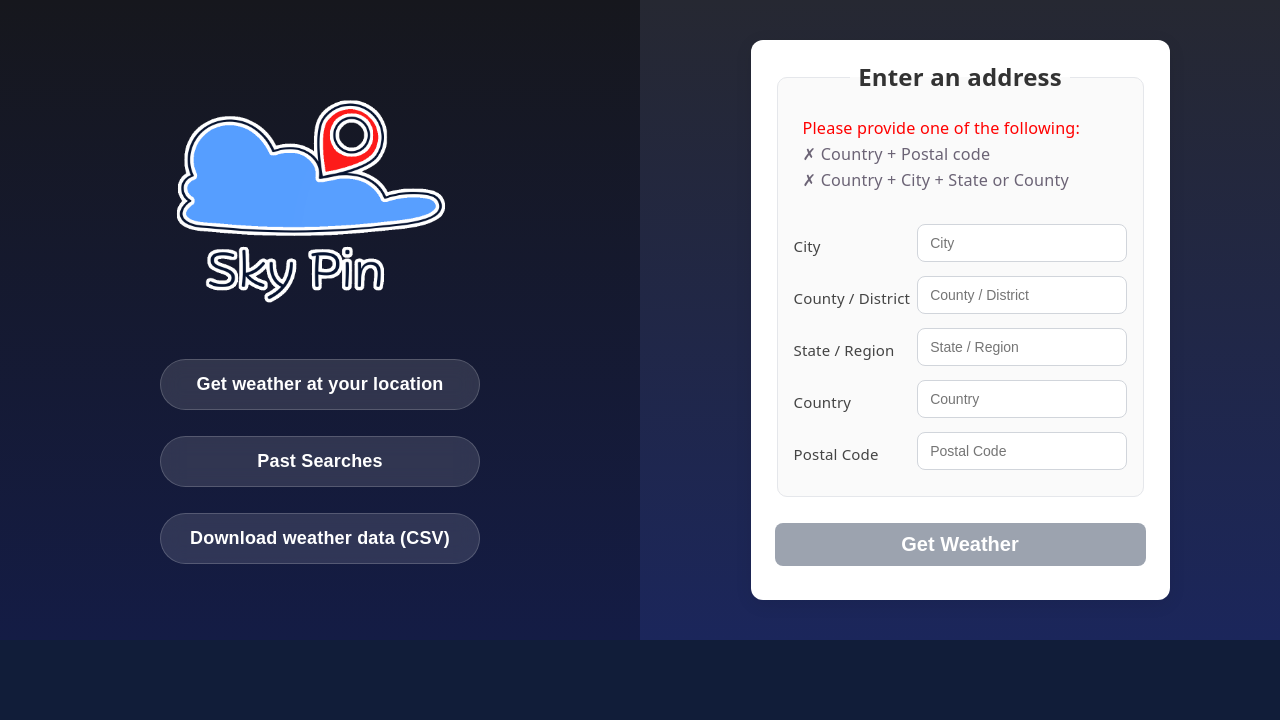
Test: App › loads and displays past searches when the history button is clicked
Click the button "Past Searches" at {"x": 320, "y": 462}, box [160,436,480,487]
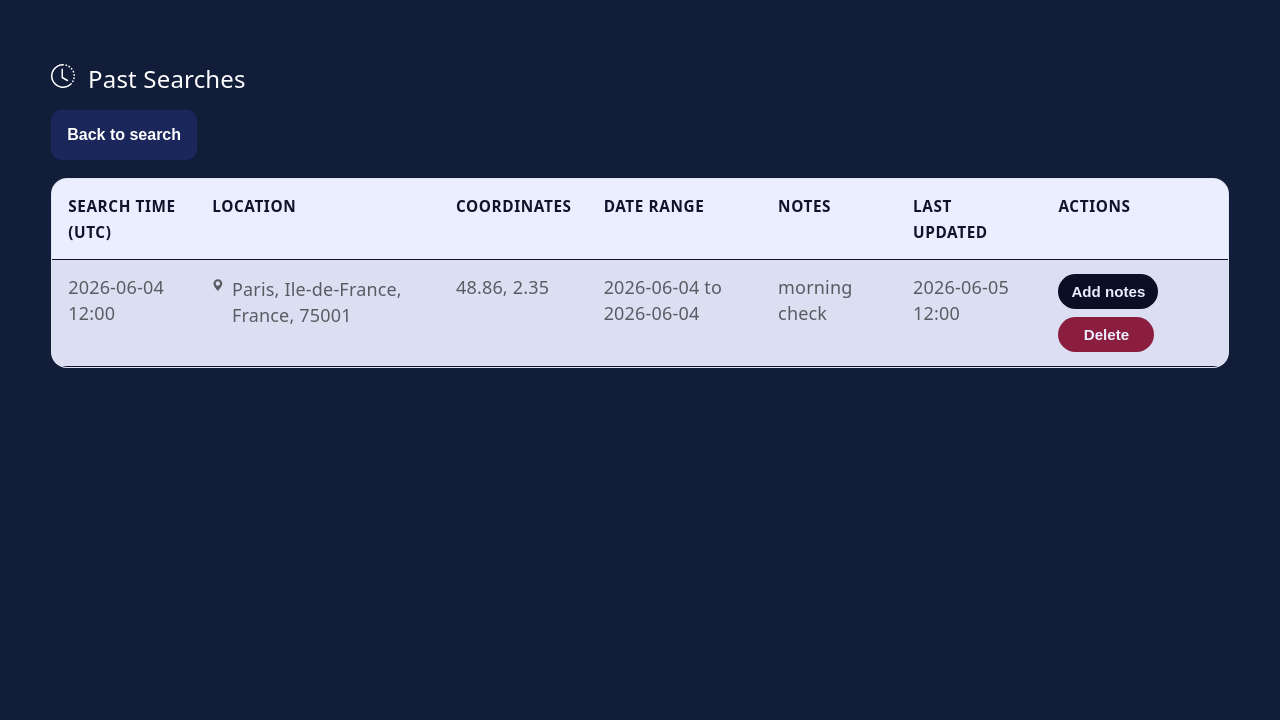
expect the text "Paris, Ile-de-France, France, 75001" is shown: met, box [212,276,424,328]
expect the text "morning check" is shown: met, box [762,260,897,367]
expect the button "Add notes" is shown: met, box [1058,274,1158,309]
